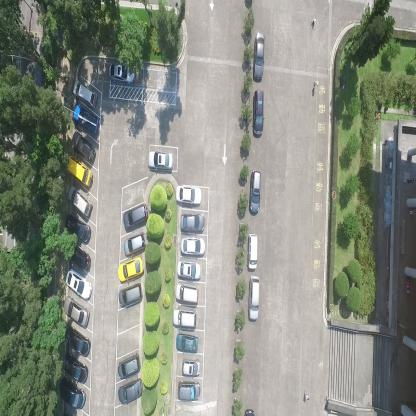car: (62, 326, 91, 358), (58, 377, 86, 409), (72, 102, 98, 136), (66, 155, 93, 187), (65, 267, 92, 299), (62, 296, 89, 328), (71, 129, 96, 163), (65, 214, 91, 245), (122, 202, 149, 231), (68, 186, 92, 218), (63, 352, 87, 384), (251, 30, 266, 81), (72, 77, 96, 108), (117, 255, 144, 282), (117, 351, 142, 380), (118, 281, 143, 308), (107, 61, 135, 85), (118, 376, 142, 404), (68, 243, 91, 271), (176, 183, 202, 206), (252, 88, 264, 136), (249, 168, 261, 216), (248, 272, 260, 320), (172, 307, 198, 329), (147, 150, 173, 172), (124, 230, 146, 256), (175, 282, 198, 306), (176, 379, 201, 401), (175, 331, 199, 353), (177, 260, 202, 281), (179, 212, 205, 232), (180, 236, 205, 256), (246, 231, 258, 271), (181, 357, 201, 377)
